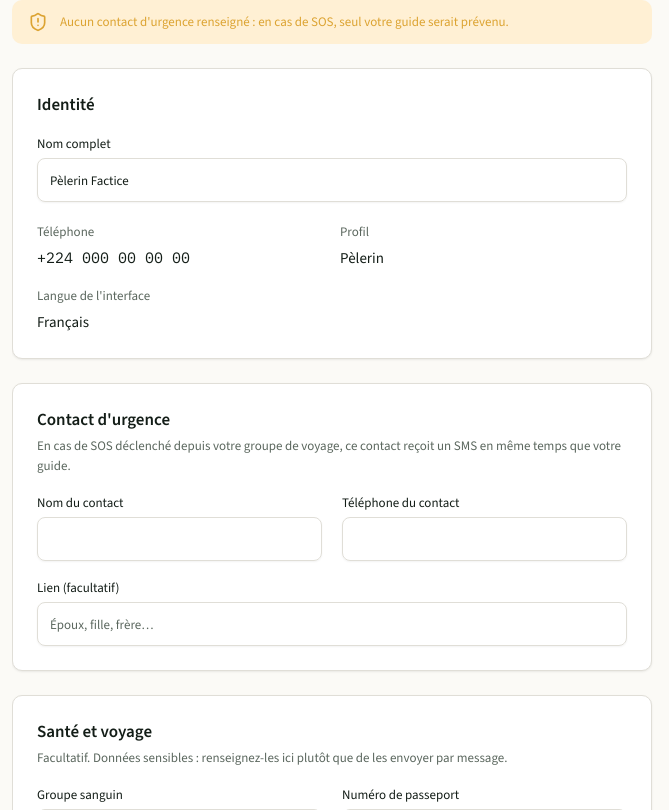
ProfileForm › envoie uniquement les champs renseignés
The image size is (669, 810).
Type "Contact Factice" into the field labelled "Nom du contact" at (180, 539), box [37,517,322,561]
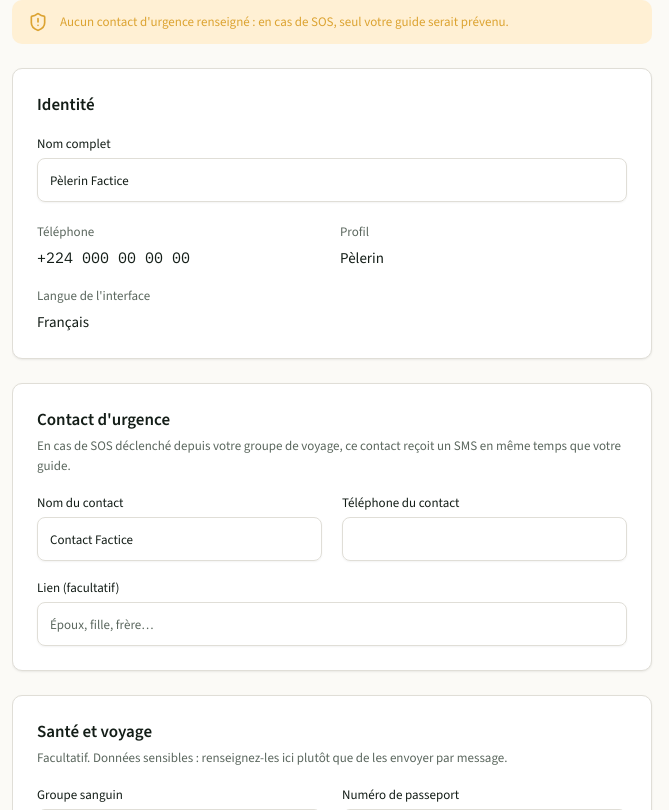
Type "+224000000001" into the field labelled "Téléphone du contact" at (484, 539), box [342,517,627,561]
(page scrolled)
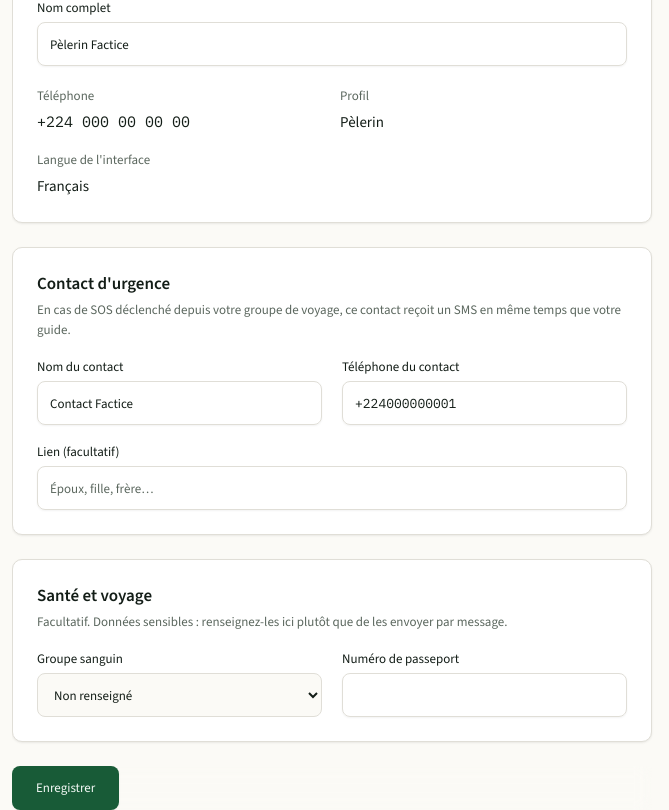
Click the button "Enregistrer" at (66, 788), box [12,766,119,809]
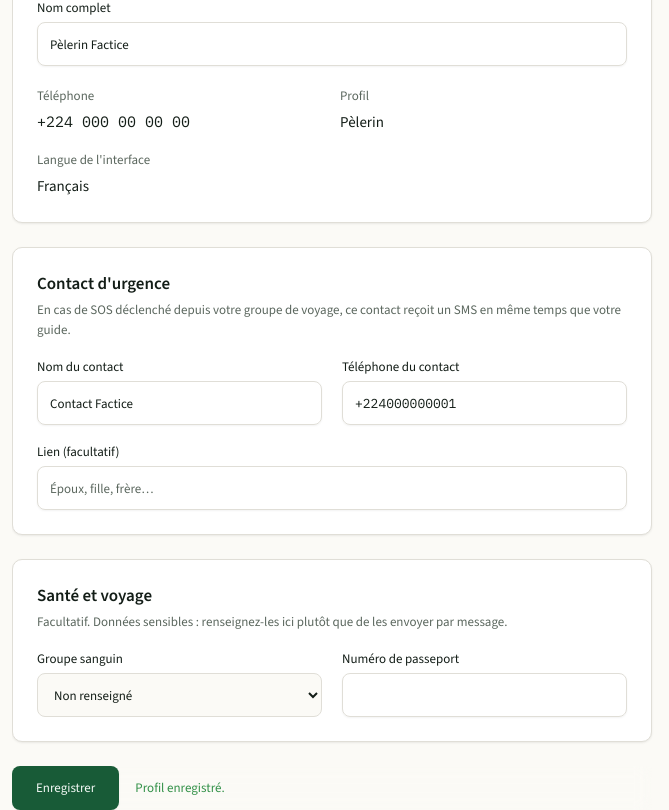
Result: the text "Profil enregistré." is shown at [135,778,225,798]
